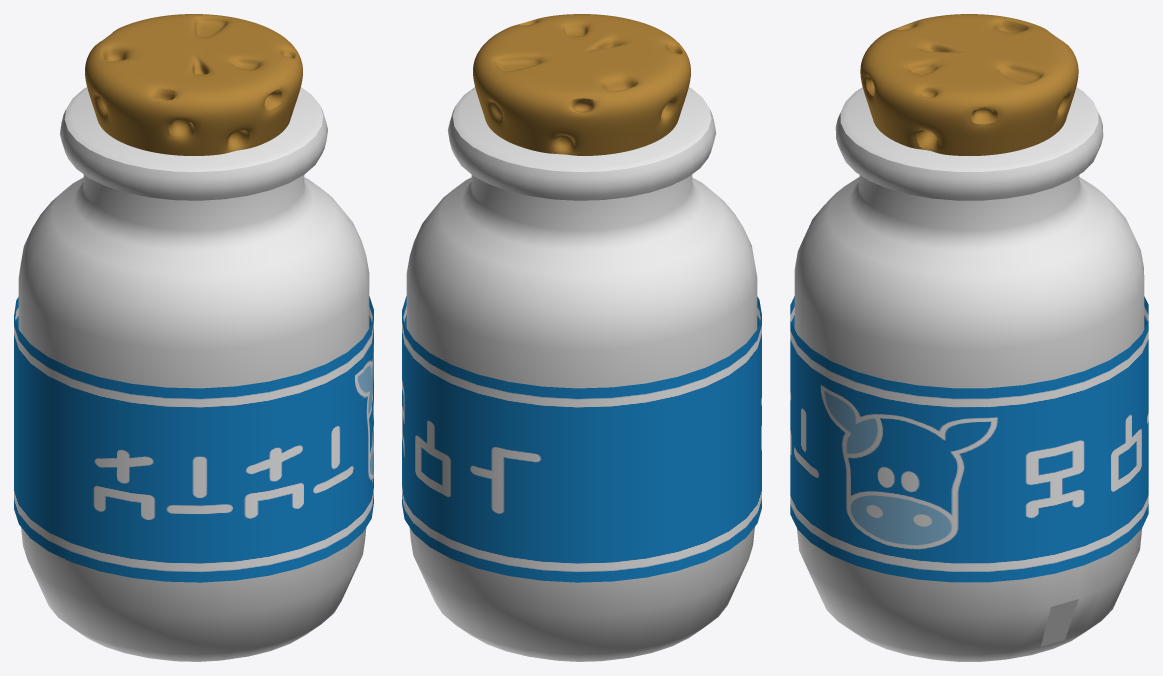
The model's file is lonlonMilk.fbx.
3 views of the same model, side by side, from view 1: azimuth 30°, elevation 25°; view 2: azimuth 150°, elevation 25°; view 3: azimuth 270°, elevation 25° (orthographic).
Visible parts, largest first — view 1: Cylinder.002; view 2: Cylinder.002; view 3: Cylinder.002.
Part boxes in pixels (box(x1,y1,x2,y2)): Cylinder.002: box(14, 14, 373, 661); Cylinder.002: box(402, 14, 761, 661); Cylinder.002: box(790, 14, 1148, 661).
Bounding box in the file's own units: 28.56 × 49.98 × 28.56.
4 materials, 1 textured.
